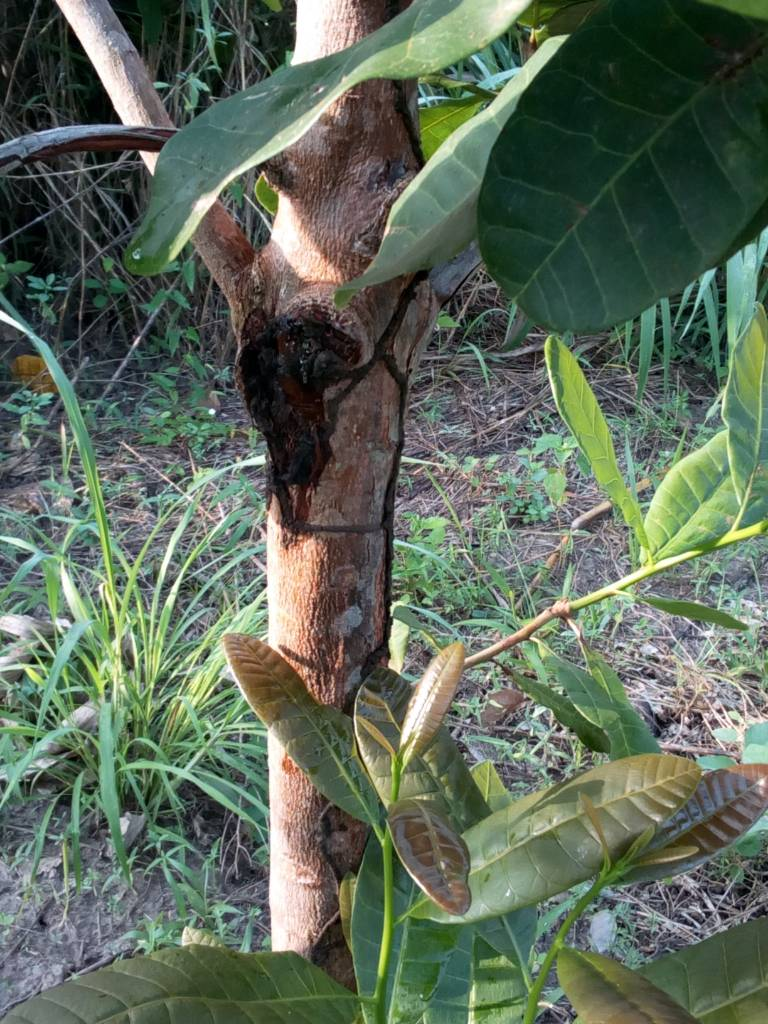Termites: (382, 324, 400, 646)
